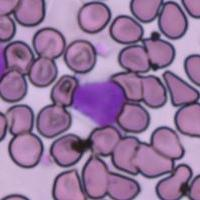L: (70, 79, 127, 128)
